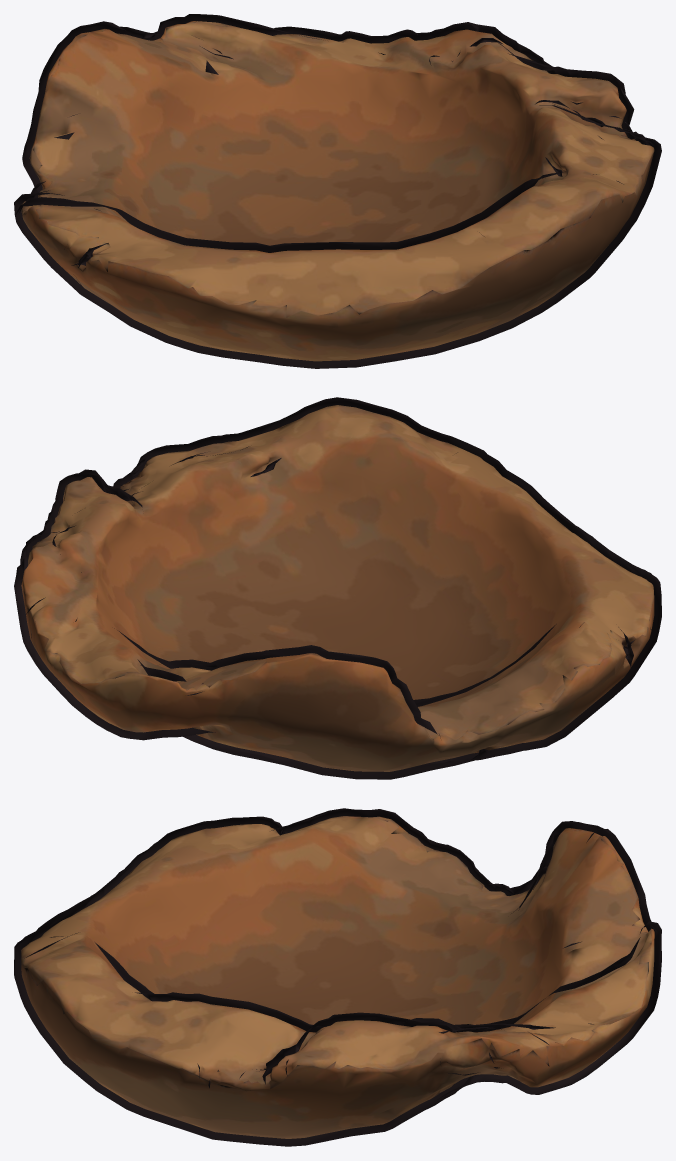
Rendered from SM_Int_Bowl.fbx.
The picture shows the model from 3 angles, top to bottom: view 1: azimuth 30°, elevation 25°; view 2: azimuth 150°, elevation 25°; view 3: azimuth 270°, elevation 25°; orthographic projection. The views are drawn at different scales.
Parts seen in each view (by area): view 1: SM_Int_Bowl; view 2: SM_Int_Bowl; view 3: SM_Int_Bowl.
Boxes of the visible parts, x1,y1,x2,y2 form: SM_Int_Bowl: [14, 14, 661, 368]; SM_Int_Bowl: [14, 397, 661, 779]; SM_Int_Bowl: [14, 808, 661, 1146].
Size of the model in its own units: 0.3203 by 0.1011 by 0.316.
